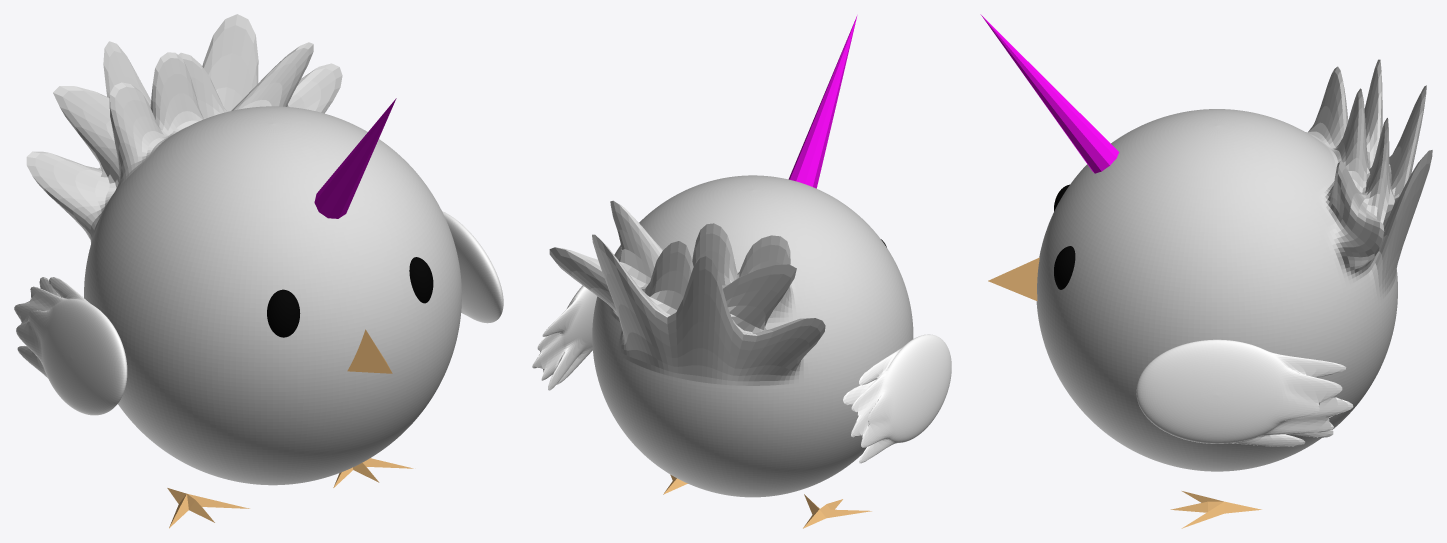
File: Chickorn.fbx
The picture shows the model from 3 angles, left to right: view 1: azimuth 30°, elevation 25°; view 2: azimuth 150°, elevation 25°; view 3: azimuth 270°, elevation 25°; orthographic projection. The views are drawn at different scales.
Visible parts, largest first — view 1: Sphere.002, Sphere.004, Sphere, Cone.001, Sphere.003, Cone, Cone.002, Sphere.001, Cone.003; view 2: Sphere.002, Sphere.004, Sphere, Cone.001, Cone.002; view 3: Sphere.002, Sphere, Cone.001, Cone, Cone.003, Sphere.001.
Boxes of the visible parts, x1,y1,x2,y2 form: Sphere.002: (26,14,461,485); Sphere.004: (14,277,127,415); Sphere: (442,211,503,323); Cone.001: (314,98,396,218); Sphere.003: (267,289,300,337); Cone: (347,329,392,373); Cone.002: (167,488,249,528); Sphere.001: (409,257,433,303); Cone.003: (333,458,413,487); Sphere.002: (549,175,913,497); Sphere.004: (843,334,951,463); Sphere: (532,285,597,390); Cone.001: (788,15,857,188); Cone.002: (803,494,871,528); Sphere.002: (1036,59,1432,471); Sphere: (1136,339,1353,446); Cone.001: (980,14,1119,173); Cone: (988,257,1039,301); Cone.003: (1170,491,1261,528); Sphere.001: (1054,246,1075,289).
Size of the model in its own units: 246 by 278 by 249.
